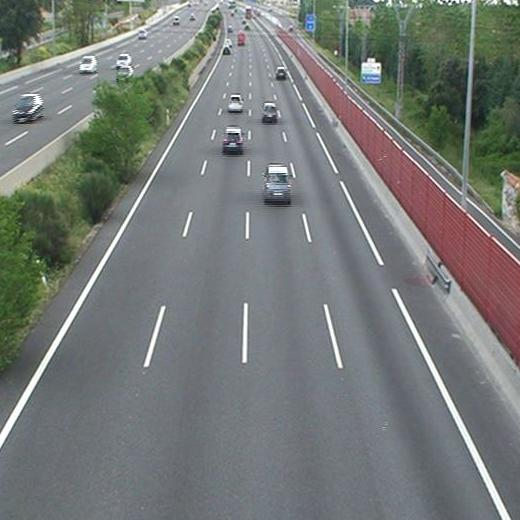car: (263, 165, 290, 200), (223, 127, 242, 151), (263, 103, 278, 121), (228, 95, 243, 112), (276, 67, 287, 79), (222, 46, 231, 55)
van: (237, 31, 245, 46)
